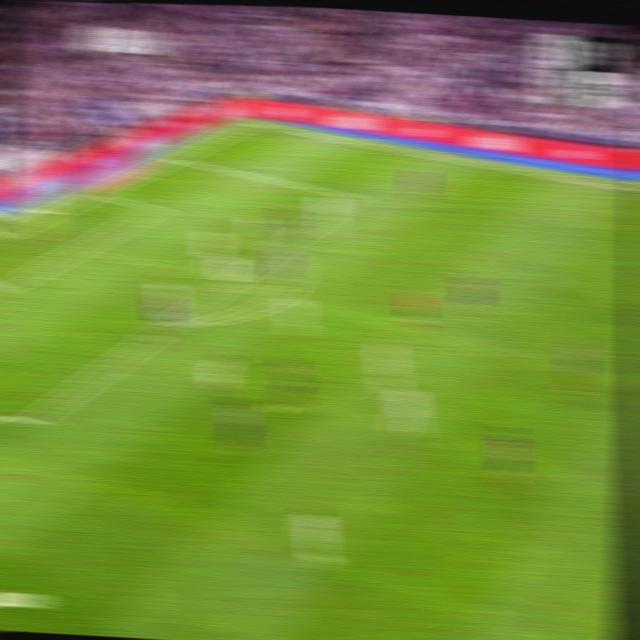bigarea_bottom_inner: (17, 409, 42, 434)
bigarea_top_inner: (342, 189, 361, 203)
bigarea_top_outter: (164, 152, 182, 163)
bottom_arc_area_intersection: (161, 314, 182, 330)
corner: (240, 116, 261, 126)
smallarea_top_inner: (148, 203, 166, 214)
top_arc_area_intersection: (273, 240, 291, 252)
